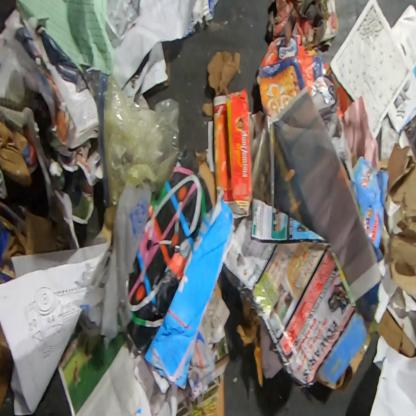cardboard: (257, 34, 354, 118), (0, 200, 65, 285), (213, 88, 254, 219), (386, 140, 416, 301), (316, 311, 376, 391), (350, 156, 390, 263), (234, 293, 264, 391), (0, 119, 38, 186), (375, 308, 416, 358), (206, 51, 242, 96), (194, 149, 216, 208), (202, 103, 213, 116)
soft_plastic: (84, 70, 180, 209), (75, 182, 154, 338)
